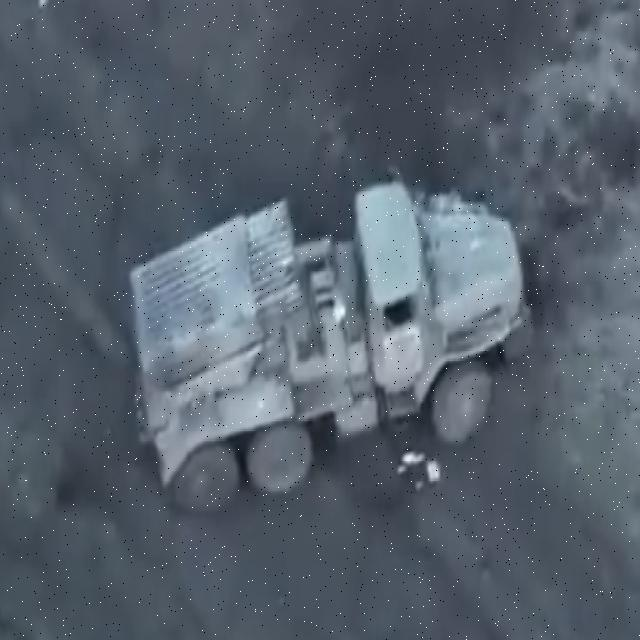MLRS: (130, 166, 534, 512)
